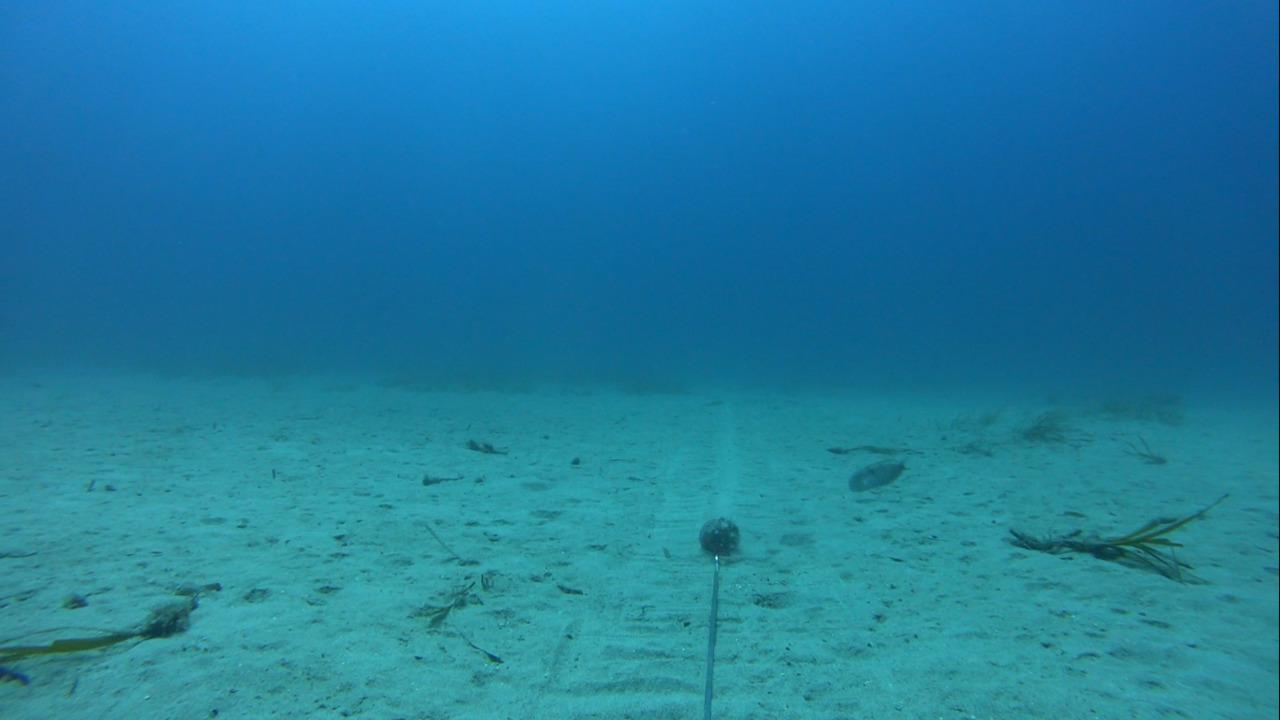raor: (842, 450, 913, 498)
